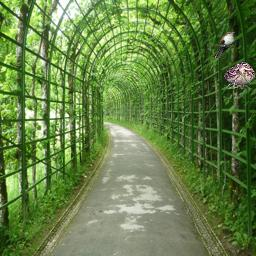Cuckoo: (215, 32, 235, 58)
Sparrow: (224, 62, 255, 89)
